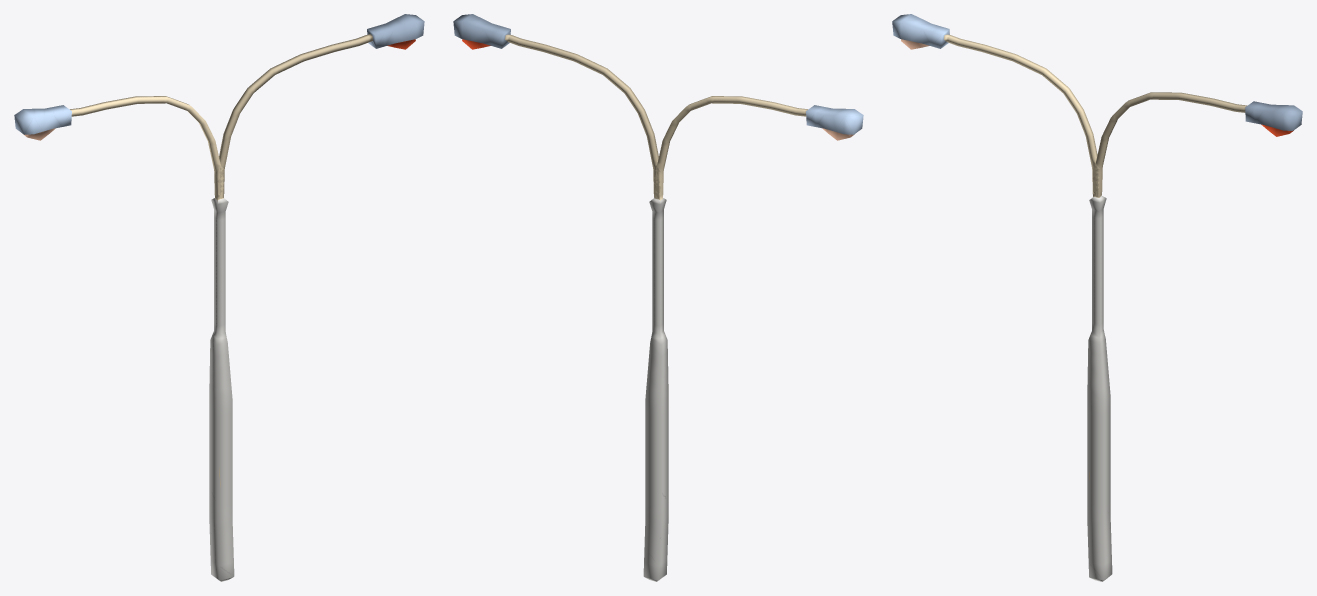
The model's file is road-light.fbx.
3 views of the same model, side by side, from view 1: azimuth 30°, elevation 25°; view 2: azimuth 150°, elevation 25°; view 3: azimuth 330°, elevation 25° (orthographic).
Parts seen in each view (by area): view 1: unamed; view 2: unamed; view 3: unamed.
Boxes of the visible parts, x1,y1,x2,y2 form: unamed: [14, 14, 424, 581]; unamed: [453, 14, 863, 581]; unamed: [892, 14, 1302, 581].
Bounding box in the file's own units: 0.8016 × 0.9836 × 0.0369.
1 material, 1 textured.
